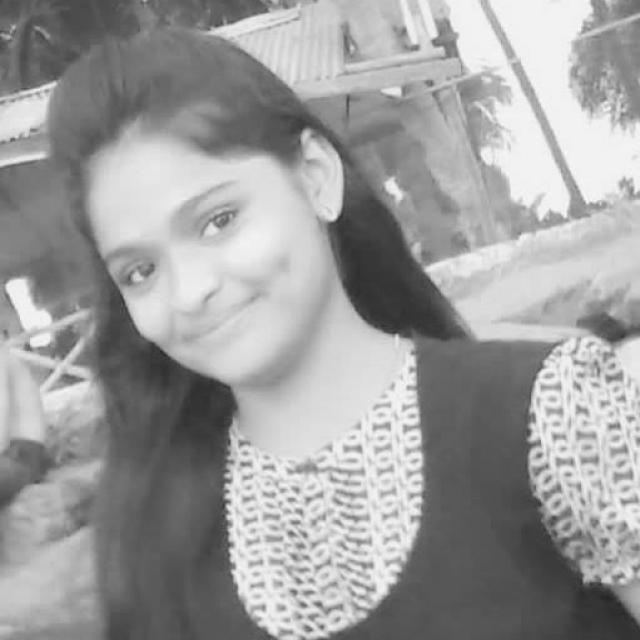without_mask: (219, 333, 426, 639)
